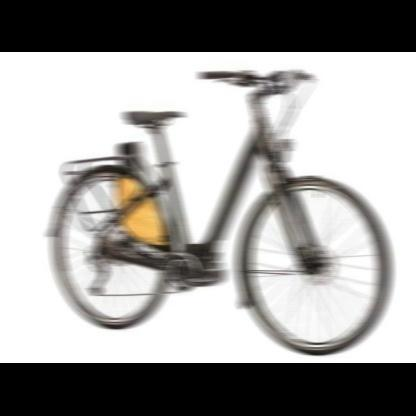Bicycle: (8, 44, 405, 357)
